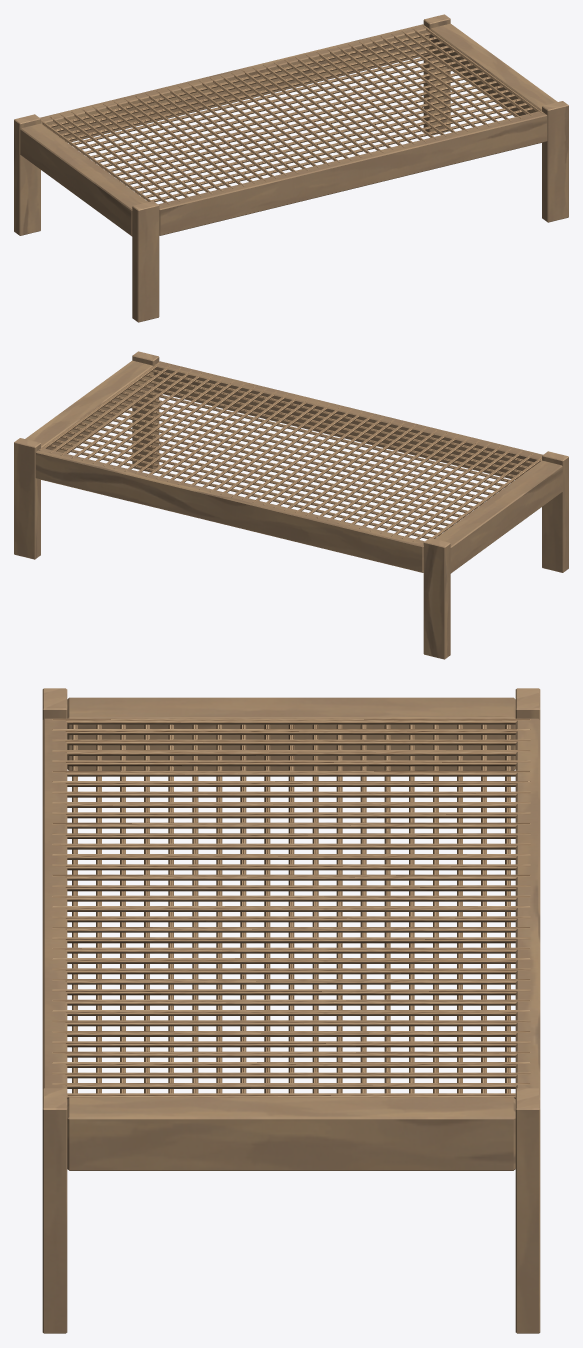
File: F05_sleeping_platform.fbx
3 renders of one model, top to bottom at view 1: azimuth 30°, elevation 25°; view 2: azimuth 150°, elevation 25°; view 3: azimuth 270°, elevation 25°, orthographic. The views are drawn at different scales.
Parts seen in each view (by area): view 1: F05_Sleepingplatform; view 2: F05_Sleepingplatform; view 3: F05_Sleepingplatform.
Boxes of the visible parts, x1=… form: F05_Sleepingplatform: x1=14, y1=14, x2=568, y2=322; F05_Sleepingplatform: x1=14, y1=351, x2=568, y2=659; F05_Sleepingplatform: x1=42, y1=688, x2=540, y2=1333.
Size of the model in its own units: 2 by 0.5 by 1.
